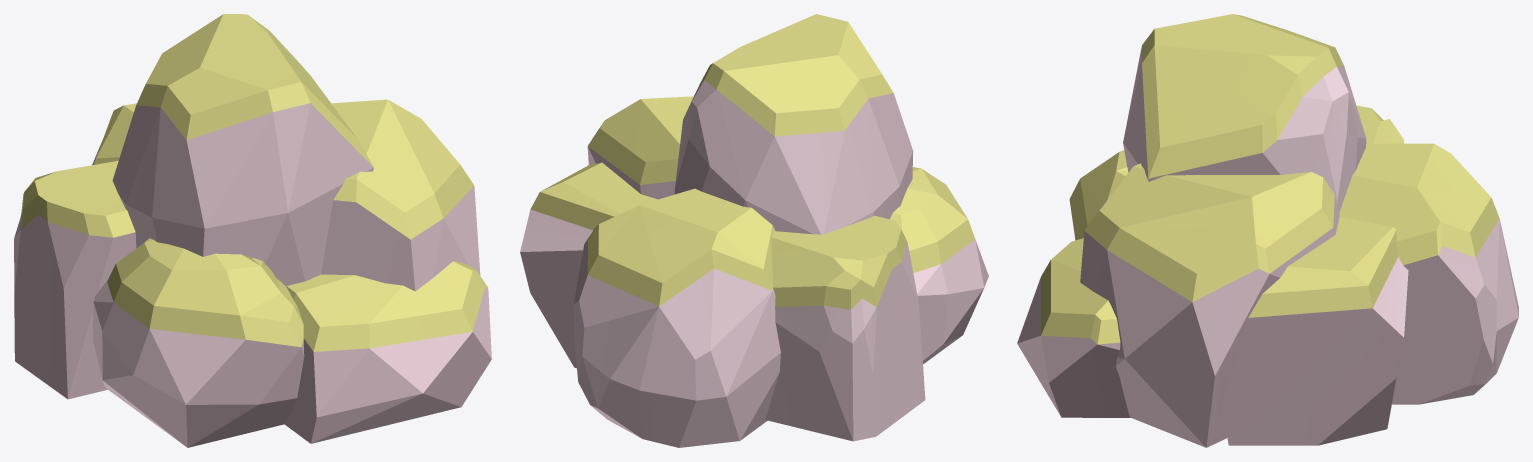
The model's file is moss-rock.fbx.
3 views of the same model, side by side, from view 1: azimuth 30°, elevation 25°; view 2: azimuth 150°, elevation 25°; view 3: azimuth 270°, elevation 25° (orthographic). The views are drawn at different scales.
Parts seen in each view (by area): view 1: moss-rock; view 2: moss-rock; view 3: moss-rock.
Part boxes in pixels (bbox=[...]): moss-rock: bbox=[14, 14, 491, 447]; moss-rock: bbox=[520, 14, 988, 447]; moss-rock: bbox=[1017, 14, 1518, 447].
Size of the model in its own units: 336 by 274 by 386.
